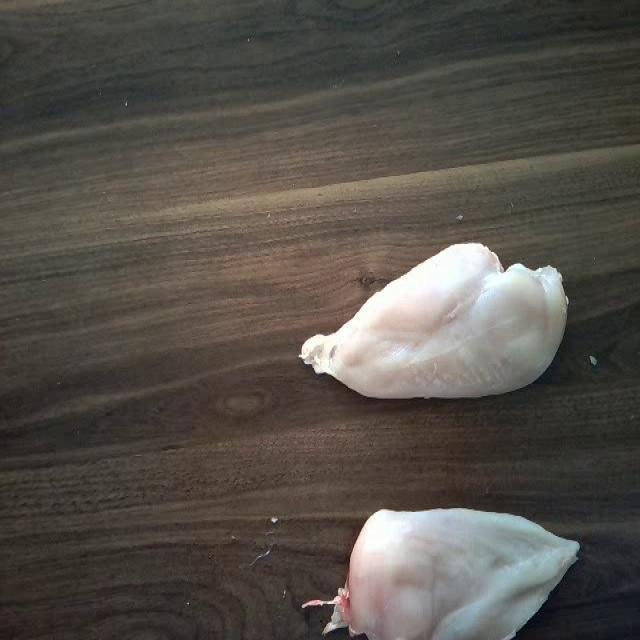breast: (303, 234, 564, 414), (340, 501, 590, 640)
